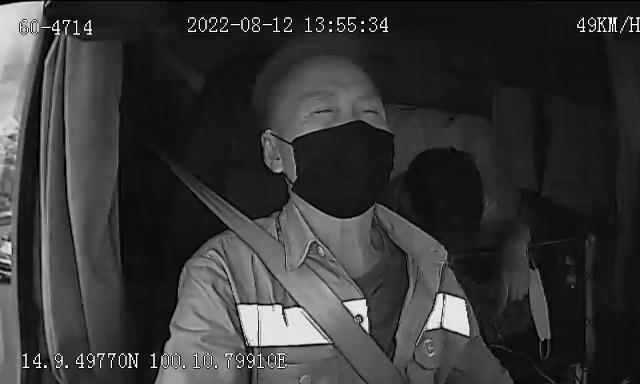Seatbelt: (179, 174, 401, 384)
